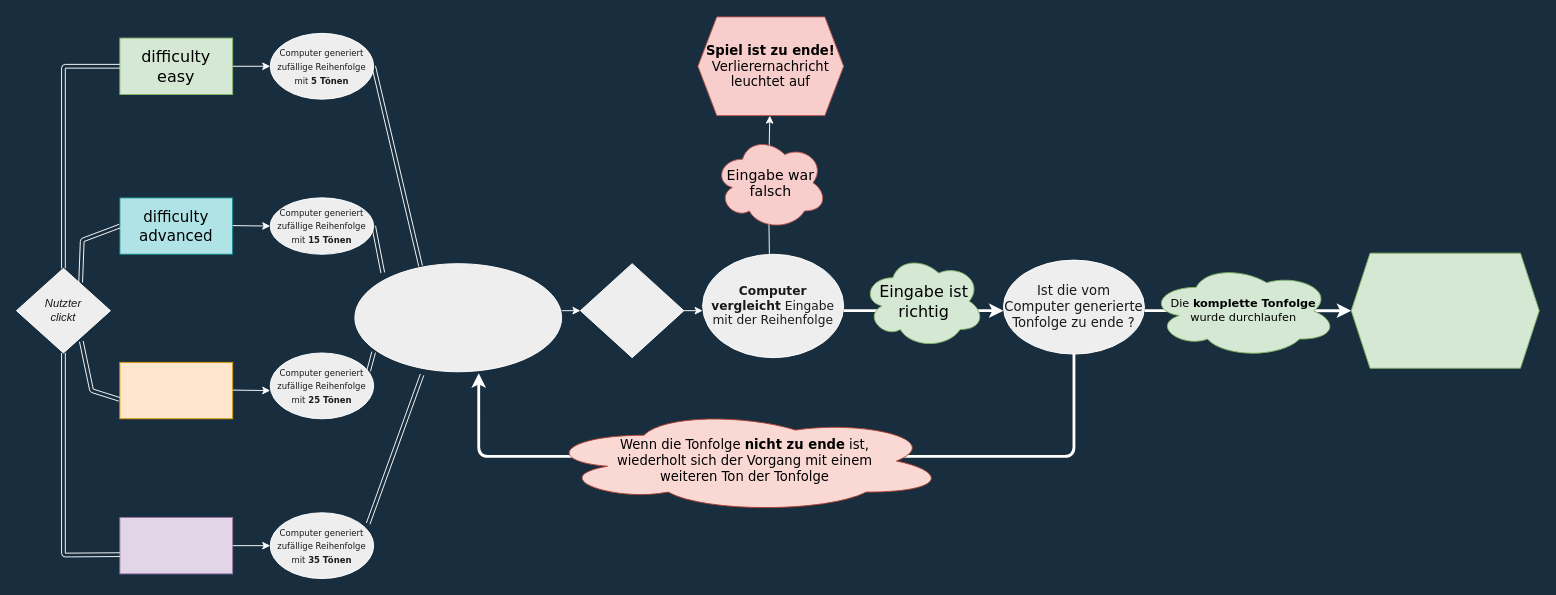
The diagram is 1556 pixels wide and 595 high, and some of its shapes have lost their labels. Here are the shapes that lost their labels. From the top down, the box of each, then its label:
(354, 263, 562, 372): Computer spielt 1./1. und2./usw... Ton der Reihenfolge
(580, 263, 684, 358): Nutzer clickt Button(s)
(1350, 252, 1539, 368): Spiel ist gewonnen! Gewinnernachricht leuchtet auf
(119, 361, 233, 419): difficulty hard
(119, 517, 233, 574): difficulty extreme
